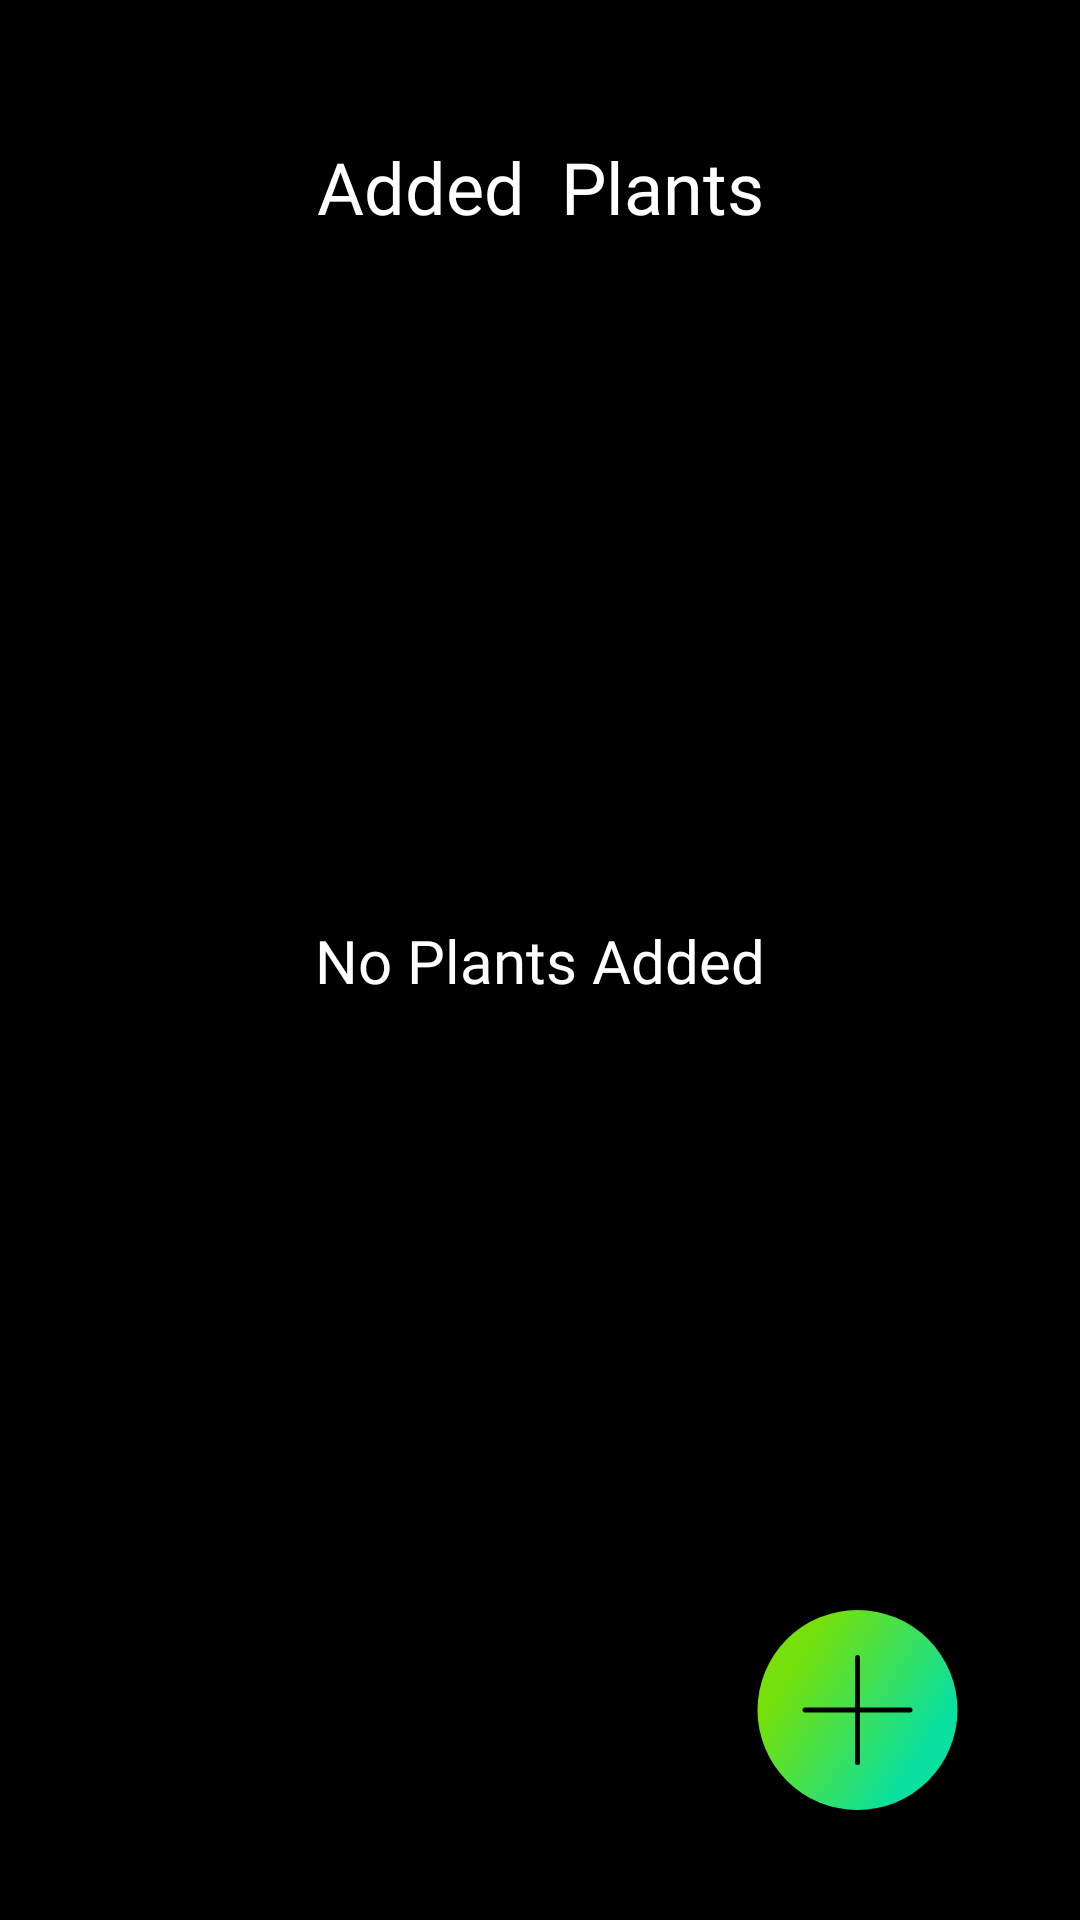

Icon bounding boxes for this 1080px×1920px phone screenshot, format {"x1": x1, "y1": y1, "x2": x2, "y2": y2}:
add plant: {"x1": 757, "y1": 1610, "x2": 958, "y2": 1810}
